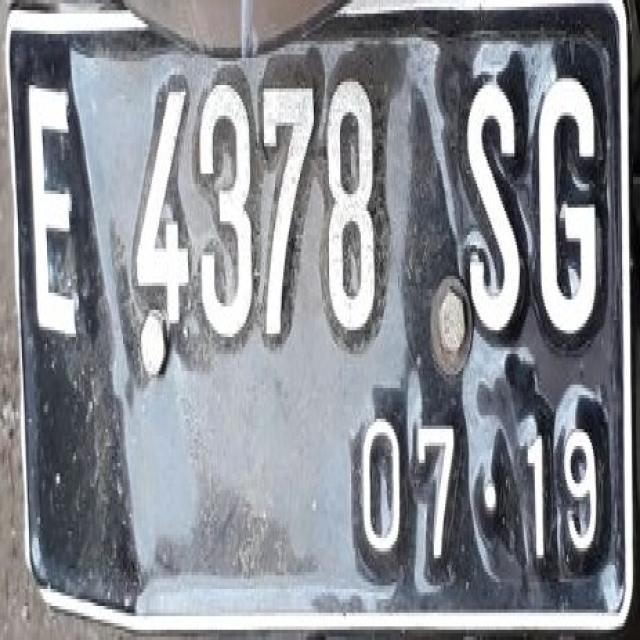plate: (2, 7, 632, 626)
